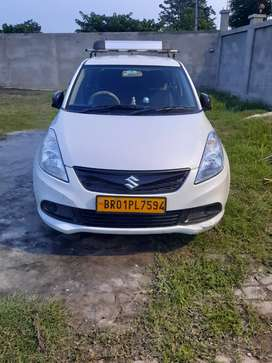BR01PL7594: (97, 196, 166, 213)
